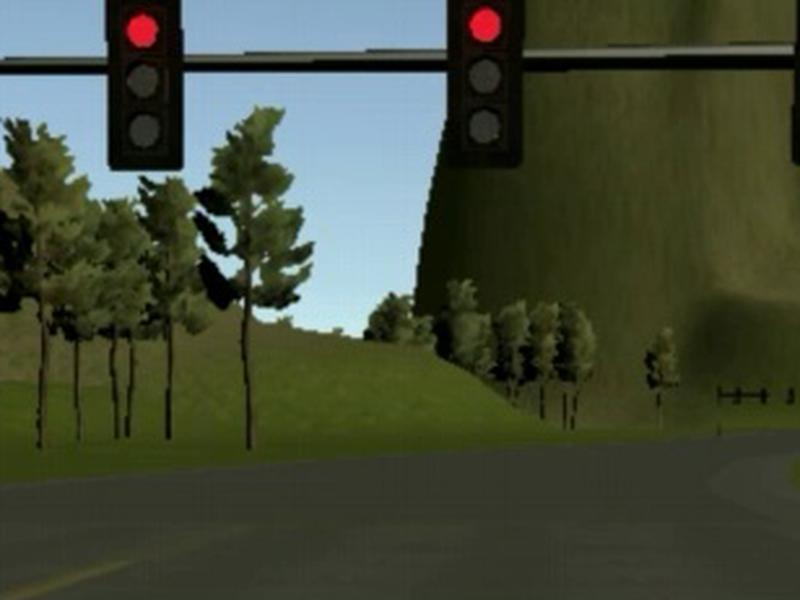Red: (104, 1, 185, 171), (446, 1, 525, 170)
